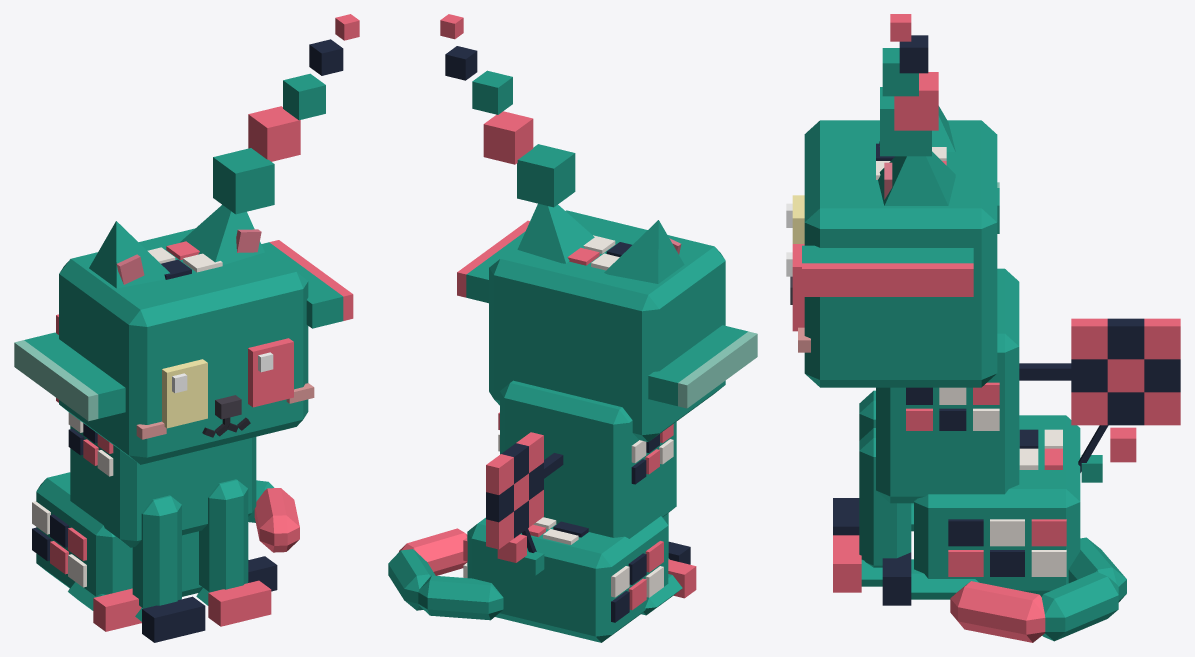
Rendered from CatCafe_Cat_Glitch_Sit.fbx.
3 views of the same model, side by side, from view 1: azimuth 30°, elevation 25°; view 2: azimuth 150°, elevation 25°; view 3: azimuth 270°, elevation 25° (orthographic). The views are drawn at different scales.
Visible parts, largest first — view 1: CatCafe_Cat_Glitch_Sit_Head, CatCafe_Cat_Glitch_Sit_Body, CatCafe_Cat_Glitch_Sit_Prop, CatCafe_Cat_Glitch_Sit_LegF1, CatCafe_Cat_Glitch_Sit_LegF2, CatCafe_Cat_Glitch_Sit_Glow, CatCafe_Cat_Glitch_Sit_EarL, CatCafe_Cat_Glitch_Sit_EarR, CatCafe_Cat_Glitch_Sit_Eye1, CatCafe_Cat_Glitch_Sit_Eye2, CatCafe_Cat_Glitch_Sit_Tail; view 2: CatCafe_Cat_Glitch_Sit_Body, CatCafe_Cat_Glitch_Sit_Head, CatCafe_Cat_Glitch_Sit_Prop, CatCafe_Cat_Glitch_Sit_Tail, CatCafe_Cat_Glitch_Sit_Glow, CatCafe_Cat_Glitch_Sit_Sprite_Glow, CatCafe_Cat_Glitch_Sit_Prop2, CatCafe_Cat_Glitch_Sit_EarL, CatCafe_Cat_Glitch_Sit_EarR; view 3: CatCafe_Cat_Glitch_Sit_Body, CatCafe_Cat_Glitch_Sit_Head, CatCafe_Cat_Glitch_Sit_Tail, CatCafe_Cat_Glitch_Sit_Glow, CatCafe_Cat_Glitch_Sit_Sprite_Glow, CatCafe_Cat_Glitch_Sit_Prop2, CatCafe_Cat_Glitch_Sit_Prop, CatCafe_Cat_Glitch_Sit_LegF1, CatCafe_Cat_Glitch_Sit_EarL, CatCafe_Cat_Glitch_Sit_LegF2, CatCafe_Cat_Glitch_Sit_Eye1, CatCafe_Cat_Glitch_Sit_Eye2 (+1 smaller).
Part boxes in pixels (x1,y1,x2,y2): CatCafe_Cat_Glitch_Sit_Head: [59, 228, 314, 464]; CatCafe_Cat_Glitch_Sit_Body: [32, 412, 277, 631]; CatCafe_Cat_Glitch_Sit_Prop: [24, 39, 343, 418]; CatCafe_Cat_Glitch_Sit_LegF1: [196, 479, 271, 626]; CatCafe_Cat_Glitch_Sit_LegF2: [132, 495, 205, 642]; CatCafe_Cat_Glitch_Sit_Glow: [14, 14, 359, 421]; CatCafe_Cat_Glitch_Sit_EarL: [180, 205, 264, 264]; CatCafe_Cat_Glitch_Sit_EarR: [89, 221, 169, 288]; CatCafe_Cat_Glitch_Sit_Eye1: [248, 338, 293, 407]; CatCafe_Cat_Glitch_Sit_Eye2: [162, 359, 207, 428]; CatCafe_Cat_Glitch_Sit_Tail: [248, 480, 299, 552]; CatCafe_Cat_Glitch_Sit_Body: [463, 380, 696, 642]; CatCafe_Cat_Glitch_Sit_Head: [489, 210, 725, 441]; CatCafe_Cat_Glitch_Sit_Prop: [445, 46, 747, 406]; CatCafe_Cat_Glitch_Sit_Tail: [388, 528, 503, 620]; CatCafe_Cat_Glitch_Sit_Glow: [440, 14, 757, 408]; CatCafe_Cat_Glitch_Sit_Sprite_Glow: [486, 432, 543, 562]; CatCafe_Cat_Glitch_Sit_Prop2: [486, 443, 563, 575]; CatCafe_Cat_Glitch_Sit_EarL: [517, 203, 594, 263]; CatCafe_Cat_Glitch_Sit_EarR: [604, 220, 684, 283]; CatCafe_Cat_Glitch_Sit_Body: [876, 268, 1080, 605]; CatCafe_Cat_Glitch_Sit_Head: [790, 120, 997, 387]; CatCafe_Cat_Glitch_Sit_Tail: [950, 537, 1126, 642]; CatCafe_Cat_Glitch_Sit_Glow: [802, 14, 999, 296]; CatCafe_Cat_Glitch_Sit_Sprite_Glow: [1071, 318, 1180, 462]; CatCafe_Cat_Glitch_Sit_Prop2: [1019, 318, 1180, 482]; CatCafe_Cat_Glitch_Sit_Prop: [802, 35, 999, 263]; CatCafe_Cat_Glitch_Sit_LegF1: [833, 428, 911, 592]; CatCafe_Cat_Glitch_Sit_EarL: [878, 151, 955, 205]; CatCafe_Cat_Glitch_Sit_LegF2: [833, 390, 875, 535]; CatCafe_Cat_Glitch_Sit_Eye1: [786, 244, 804, 331]; CatCafe_Cat_Glitch_Sit_Eye2: [786, 195, 804, 243].
Bounding box in the file's own units: 1.45 × 2.56 × 1.44.
Materials: 1 (1 with a texture image).
